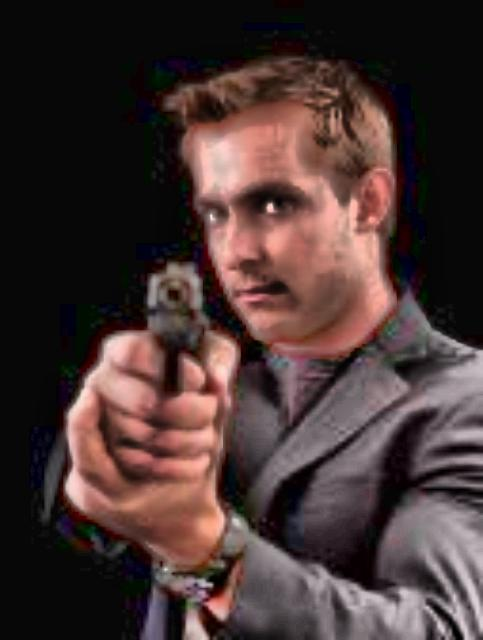pistol: (141, 256, 209, 396)
